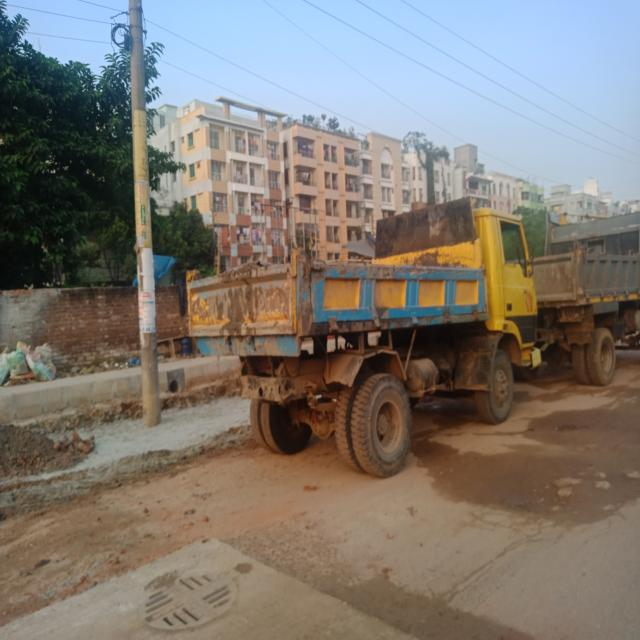truck: (178, 181, 538, 475), (532, 200, 640, 392)
